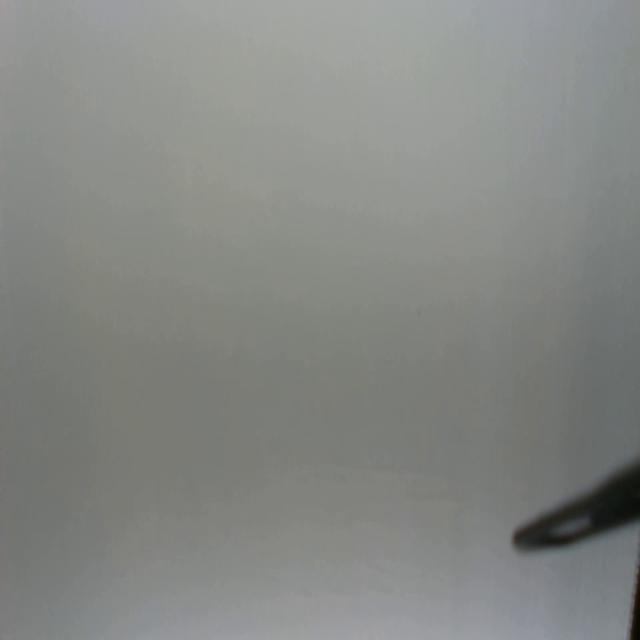hole: (414, 306, 424, 322)
